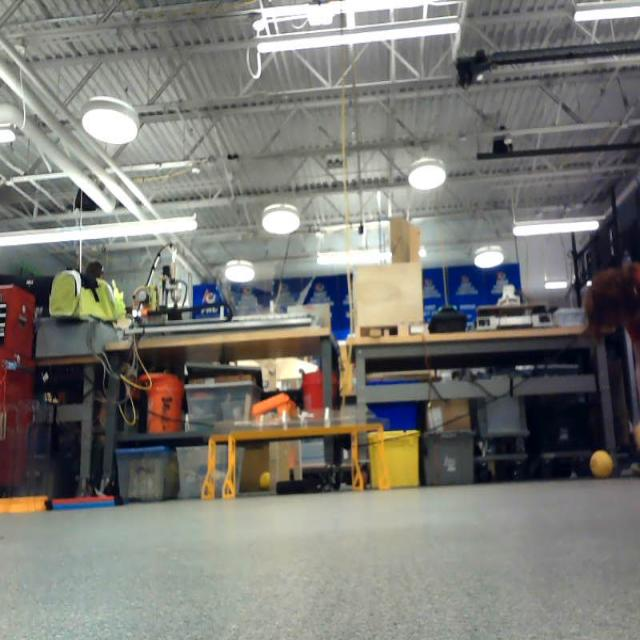Fuel: (591, 450, 613, 478), (261, 472, 272, 488)
